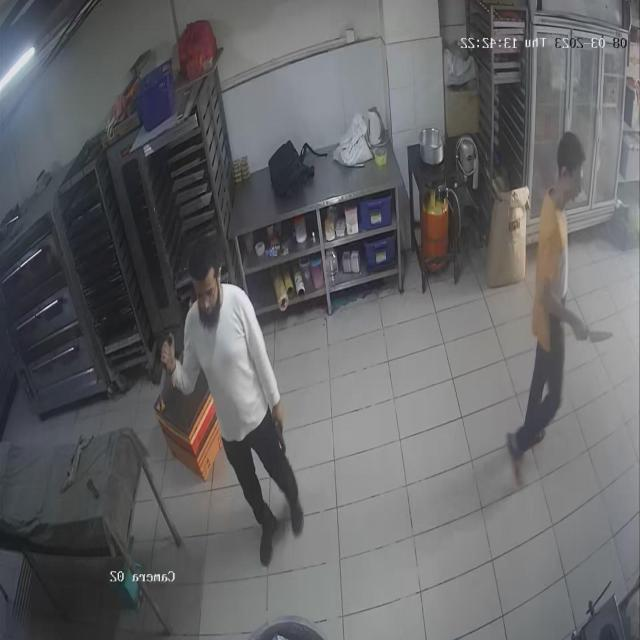Knife: (146, 327, 187, 400), (575, 319, 618, 352)
